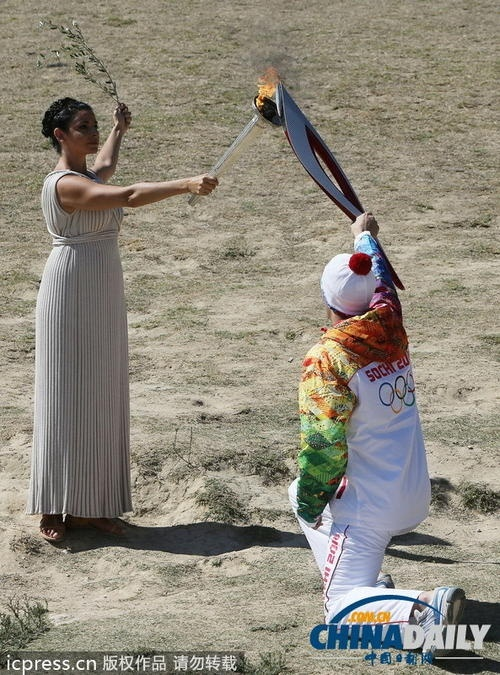fire: (253, 62, 279, 108)
